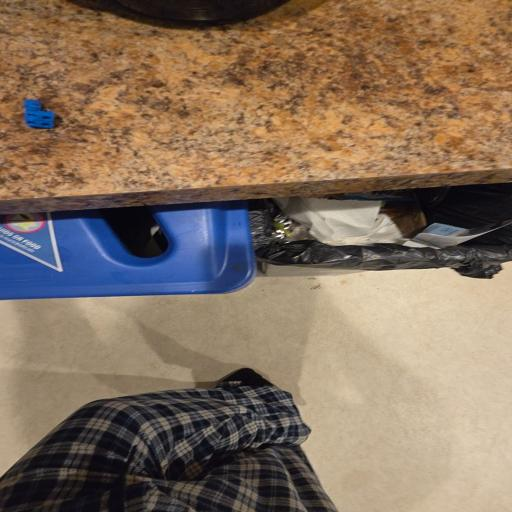Blue: (24, 99, 55, 128)
